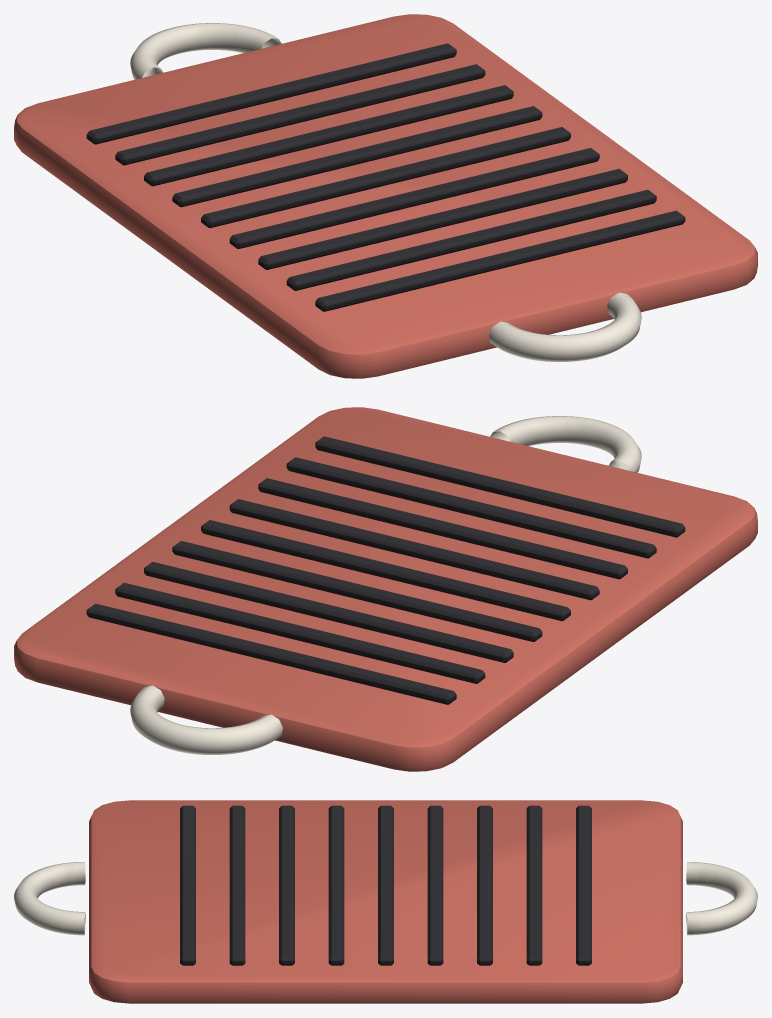
Rendered from kit_grill.glb.
3 renders of one model, top to bottom at view 1: azimuth 30°, elevation 25°; view 2: azimuth 150°, elevation 25°; view 3: azimuth 270°, elevation 25°, orthographic. The views are drawn at different scales.
Visible parts, largest first — view 1: PART; view 2: PART; view 3: PART.
Boxes of the visible parts, left/top/right/bottom form: PART: left=14, top=14, right=757, bottom=378; PART: left=14, top=407, right=757, bottom=771; PART: left=14, top=800, right=757, bottom=1003.
Bounding box in the file's own units: 0.22 × 0.0245 × 0.3758.
